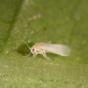whitefly: (23, 39, 71, 60)
